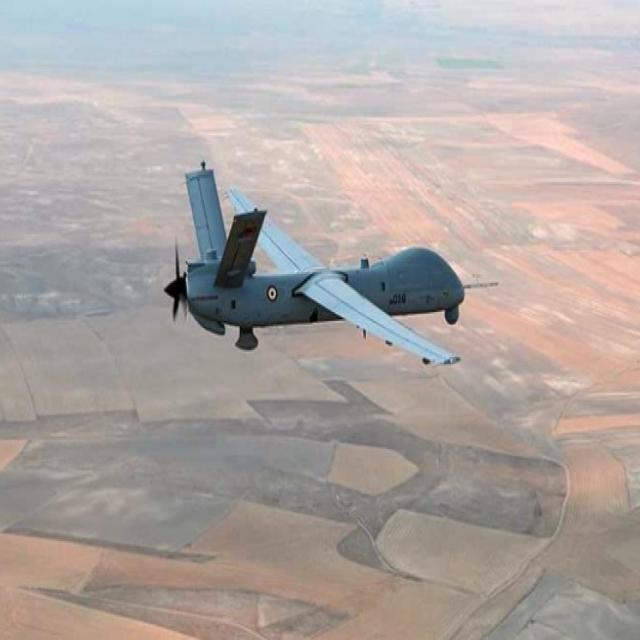iha: (154, 154, 494, 364)
